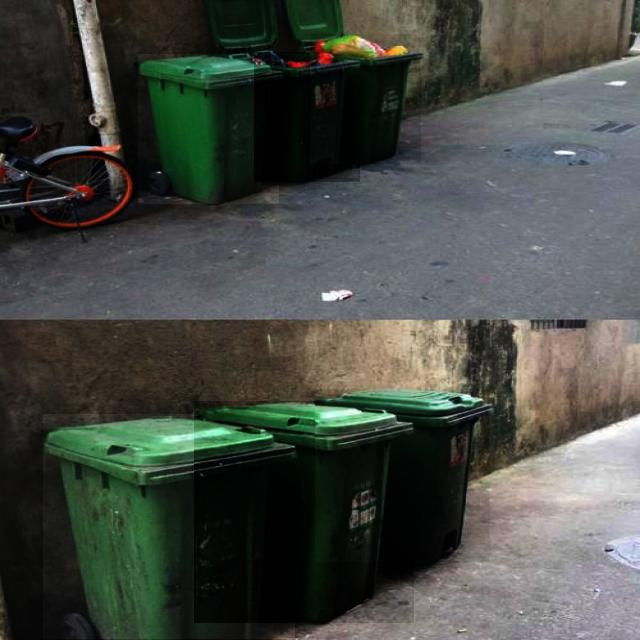garbage_bin: (44, 414, 296, 639), (194, 402, 414, 624), (315, 389, 490, 562), (138, 54, 279, 204)
overflow: (310, 34, 421, 164), (254, 52, 360, 182)
